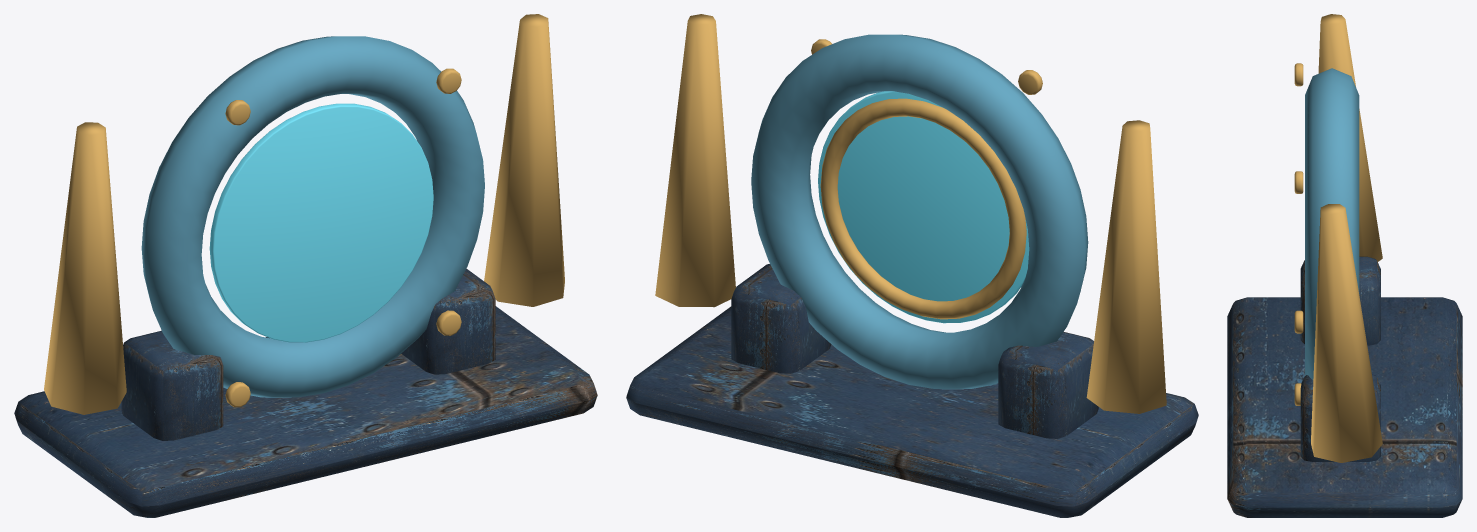
The model's file is portal_w2.glb.
The picture shows the model from 3 angles, left to right: view 1: azimuth 30°, elevation 25°; view 2: azimuth 150°, elevation 25°; view 3: azimuth 270°, elevation 25°; orthographic projection. The views are drawn at different scales.
Visible parts, largest first — view 1: portal_w2; view 2: portal_w2; view 3: portal_w2.
Part boxes in pixels (left/top/right/bottom): portal_w2: left=14, top=14, right=597, bottom=517; portal_w2: left=626, top=14, right=1198, bottom=517; portal_w2: left=1227, top=14, right=1462, bottom=517.
Size of the model in its own units: 1.81 by 1.32 by 0.82.
4 materials, 1 textured.
